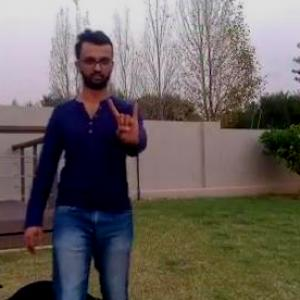takeoff-hand: (105, 88, 150, 150)
